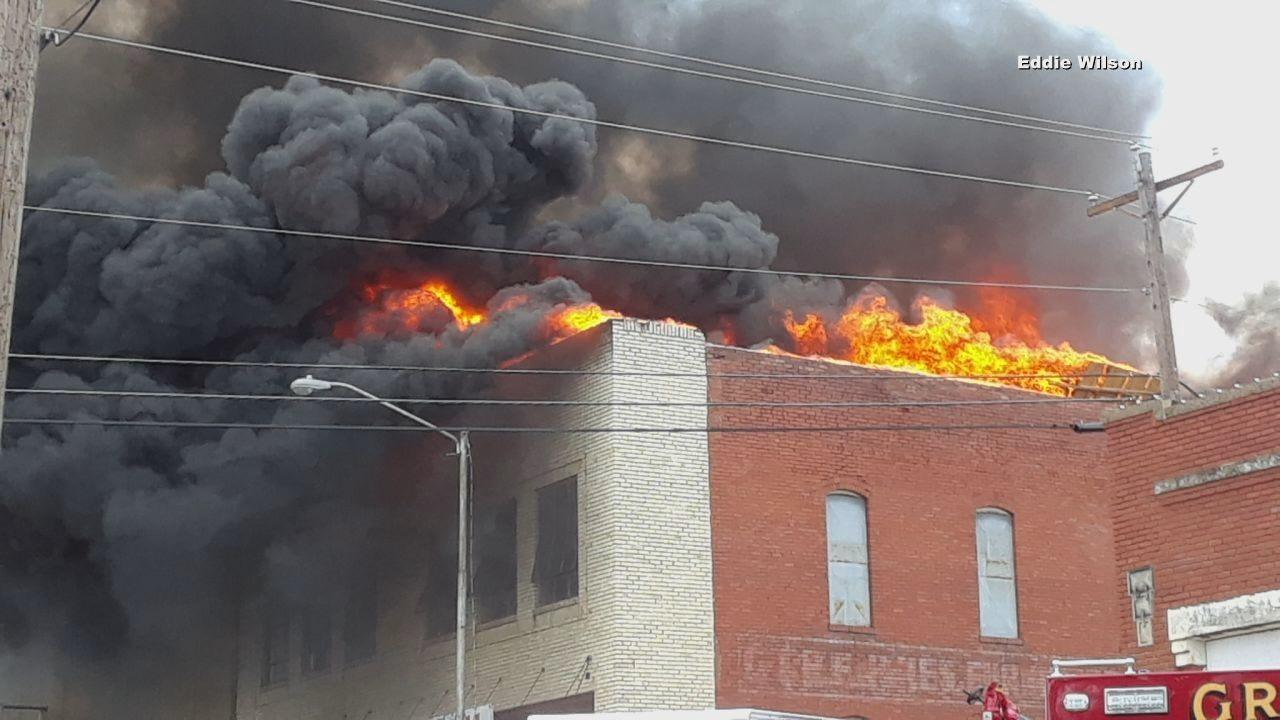Fire: (341, 227, 1149, 417)
